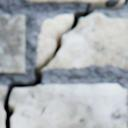brick: (0, 16, 24, 74), (26, 0, 107, 3)
broken_brick: (9, 85, 126, 127), (42, 15, 127, 71), (36, 16, 71, 66), (0, 87, 6, 127)
crack: (2, 0, 127, 127), (40, 106, 45, 117)
